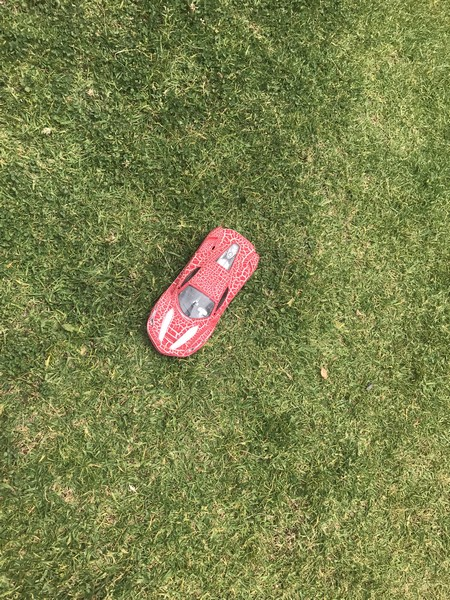RC: (144, 226, 261, 362)
